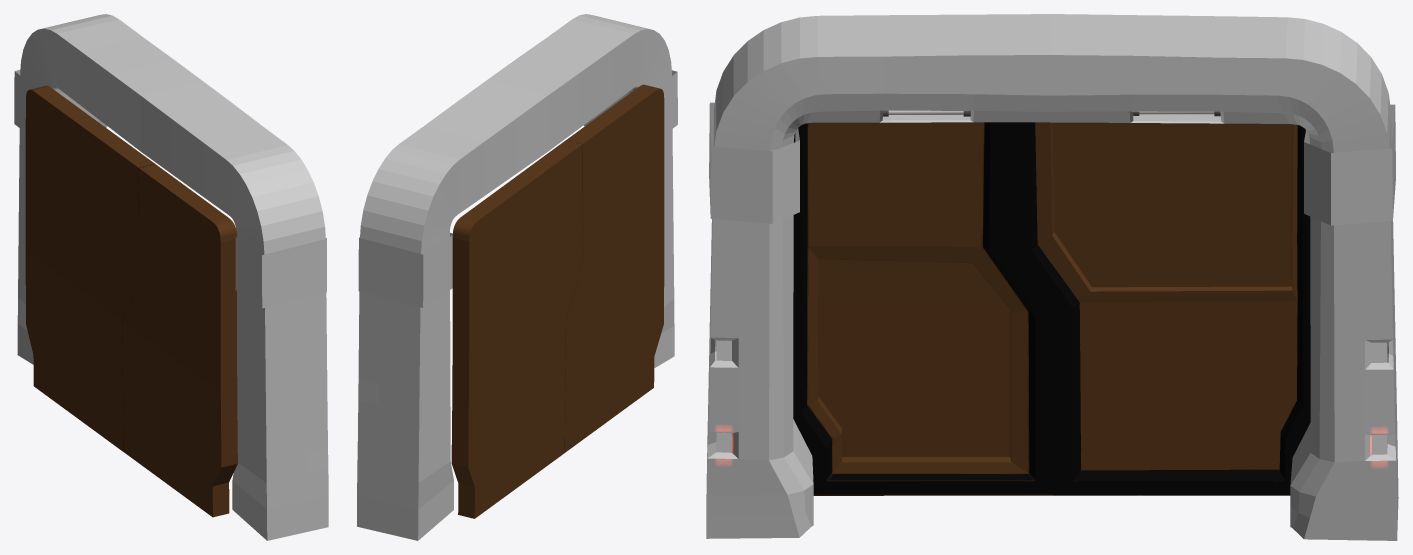
Rendered from Gate.fbx.
The picture shows the model from 3 angles, left to right: view 1: azimuth 30°, elevation 25°; view 2: azimuth 150°, elevation 25°; view 3: azimuth 270°, elevation 25°; orthographic projection. The views are drawn at different scales.
Visible parts, largest first — view 1: Pasillo puerta, Puerta derecha, Puerta izquierda; view 2: Pasillo puerta, Puerta derecha, Puerta izquierda; view 3: Pasillo puerta, Puerta derecha, Puerta izquierda.
Boxes of the visible parts, left/top/right/bottom form: Pasillo puerta: left=14, top=14, right=328, bottom=540; Puerta derecha: left=25, top=85, right=154, bottom=451; Puerta izquierda: left=122, top=164, right=237, bottom=517; Pasillo puerta: left=357, top=14, right=677, bottom=540; Puerta derecha: left=451, top=140, right=582, bottom=518; Puerta izquierda: left=564, top=84, right=664, bottom=452; Pasillo puerta: left=706, top=14, right=1398, bottom=540; Puerta derecha: left=1008, top=122, right=1310, bottom=495; Puerta izquierda: left=793, top=122, right=1053, bottom=495.
Bounding box in the file's own units: 58.71 × 227 × 294.
